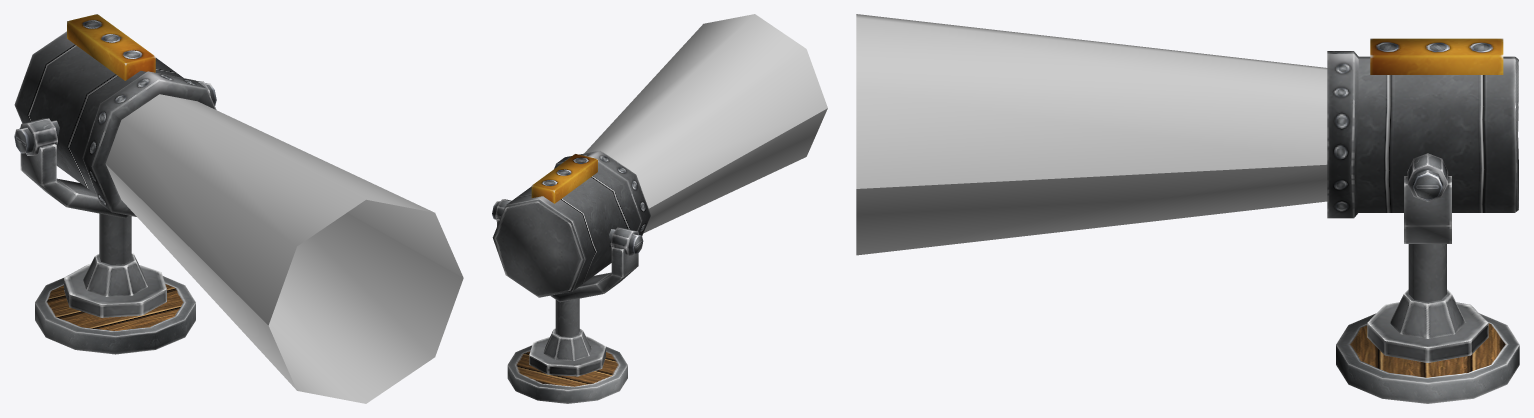
File: Projector_L2.FBX
The picture shows the model from 3 angles, left to right: view 1: azimuth 30°, elevation 25°; view 2: azimuth 150°, elevation 25°; view 3: azimuth 270°, elevation 25°; orthographic projection. The views are drawn at different scales.
Parts seen in each view (by area): view 1: LightShaft, Projector_Projector_L2, Projector_Hub_L2, Projector_Base_L2; view 2: LightShaft, Projector_Projector_L2, Projector_Hub_L2, Projector_Base_L2; view 3: LightShaft, Projector_Projector_L2, Projector_Hub_L2, Projector_Base_L2.
Boxes of the visible parts, x1,y1,x2,y2 form: LightShaft: [105, 94, 463, 403]; Projector_Projector_L2: [14, 14, 216, 216]; Projector_Hub_L2: [20, 81, 210, 317]; Projector_Base_L2: [35, 276, 195, 354]; LightShaft: [584, 14, 827, 232]; Projector_Projector_L2: [492, 150, 650, 297]; Projector_Hub_L2: [495, 199, 638, 376]; Projector_Base_L2: [507, 345, 627, 403]; LightShaft: [856, 14, 1327, 255]; Projector_Projector_L2: [1327, 38, 1518, 218]; Projector_Hub_L2: [1367, 153, 1488, 362]; Projector_Base_L2: [1336, 313, 1519, 403].
Size of the model in its own units: 2.63 by 6.78 by 3.91.
